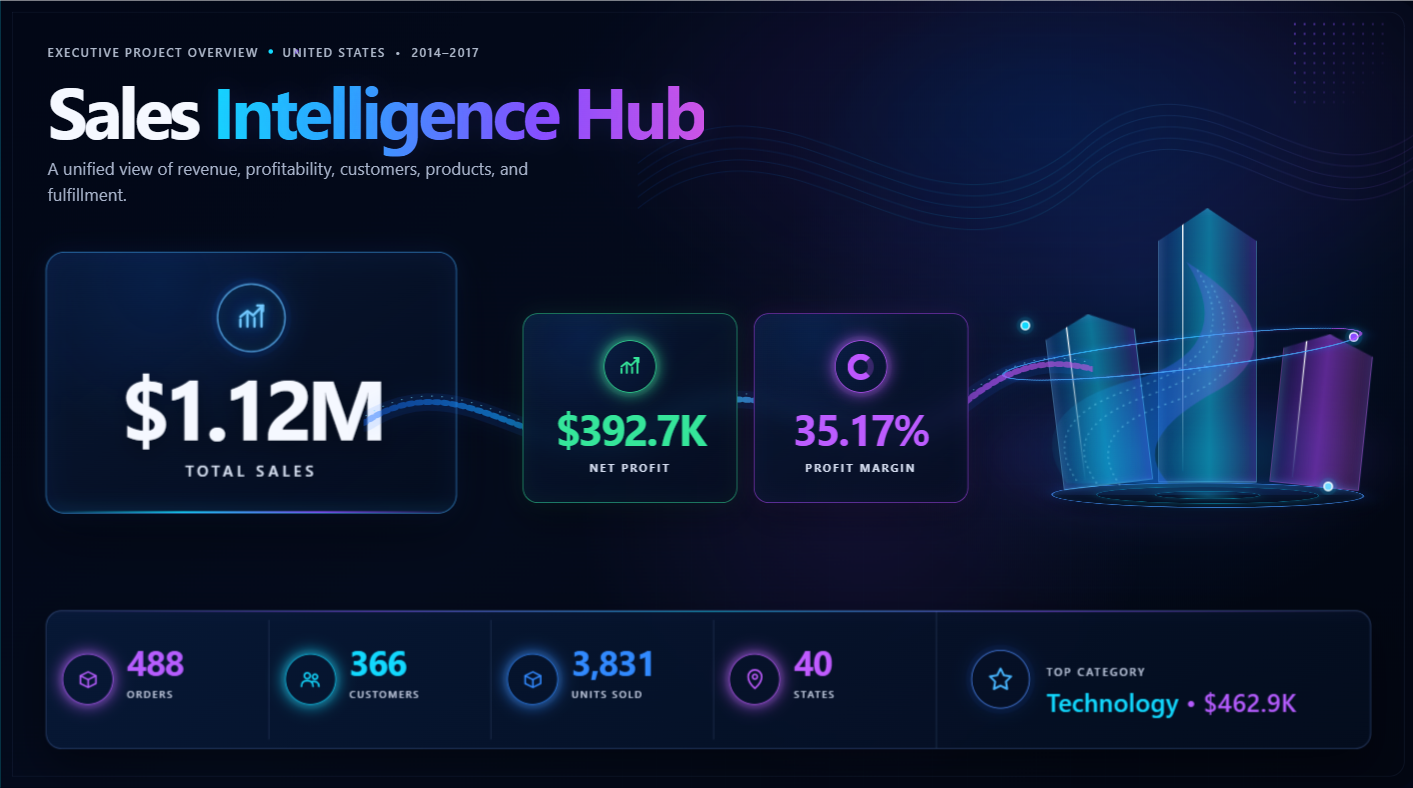

The dashboard page shown, as its layout file describes it:
{"tool":"powerbi","page":{"name":"Landing Page","canvas":[1920,1080],"ordinal":0},"visuals":[{"type":"htmlContent443BE3AD55E043BF878BED274D3A6855","fields":{"content":["_Measures.Landing Page HTML Spectral 1920x1080"]},"box":[0,0,1920,1080],"z":0}]}

Visuals, with their boxes in screenshot pixels (x1, y1, x2, y2), scaled from the page's 1920x1080 canvas onto the 1413x788 screenshot:
htmlContent443BE3AD55E043BF878BED274D3A6855 - _Measures.Landing Page HTML Spectral 1920x1080: (0, 0, 1412, 787)
